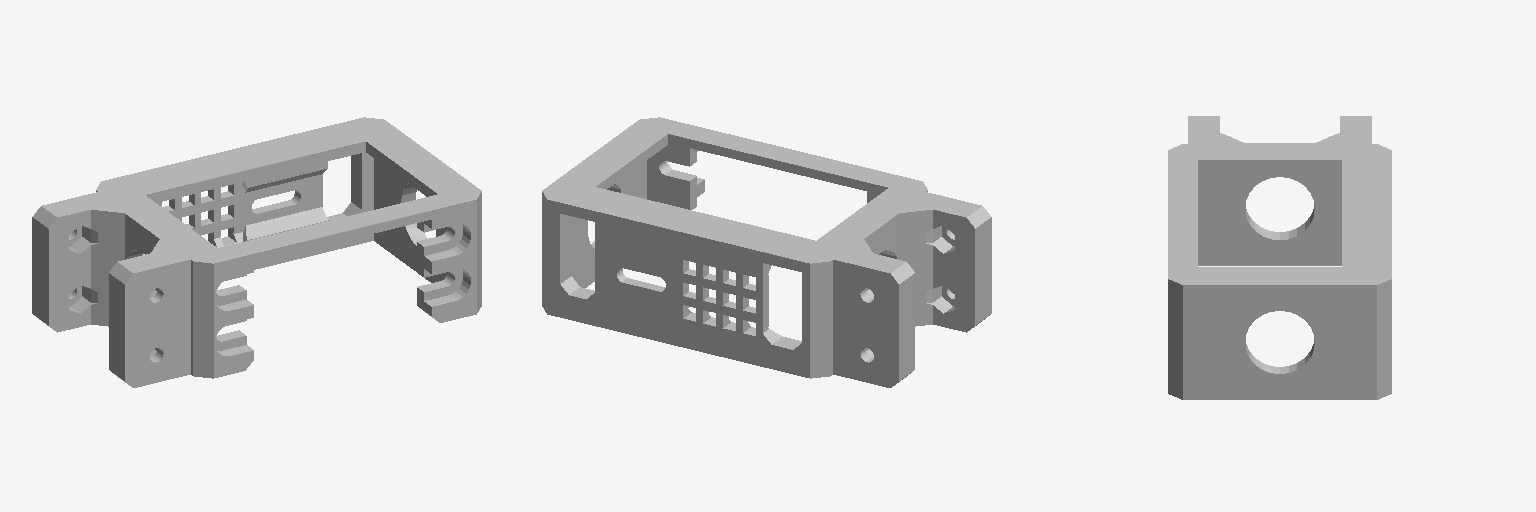
Rendered from EDMO2_Body.obj.
3 views of the same model, side by side, from view 1: azimuth 30°, elevation 25°; view 2: azimuth 150°, elevation 25°; view 3: azimuth 270°, elevation 25° (orthographic).
Parts seen in each view (by area): view 1: Servo_spacing_v32; view 2: Servo_spacing_v32; view 3: Servo_spacing_v32.
Part boxes in pixels (x1,y1,x2,y2): Servo_spacing_v32: (32,117,481,387); Servo_spacing_v32: (542,117,991,387); Servo_spacing_v32: (1168,116,1391,399).
Bounding box in the file's own units: 5.74 × 1.78 × 3.15.